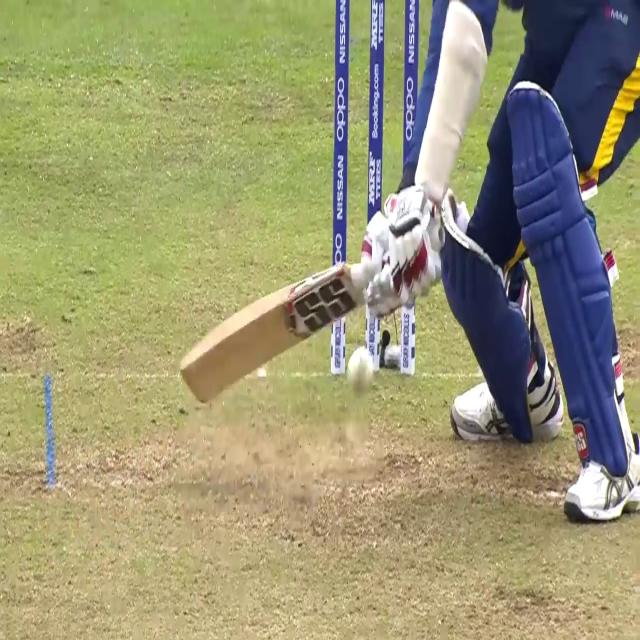ball: (346, 340, 375, 394)
